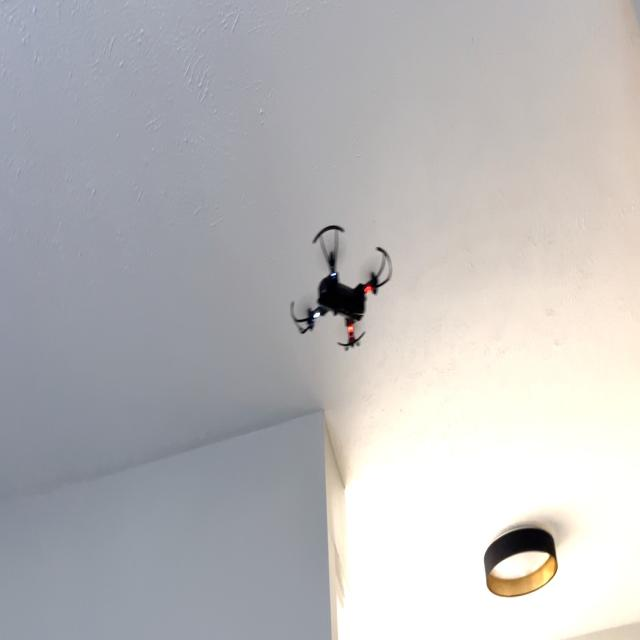drone: (281, 209, 398, 361)
